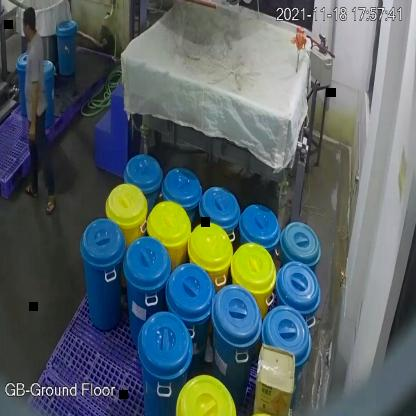no_shoes: (44, 194, 56, 215)
